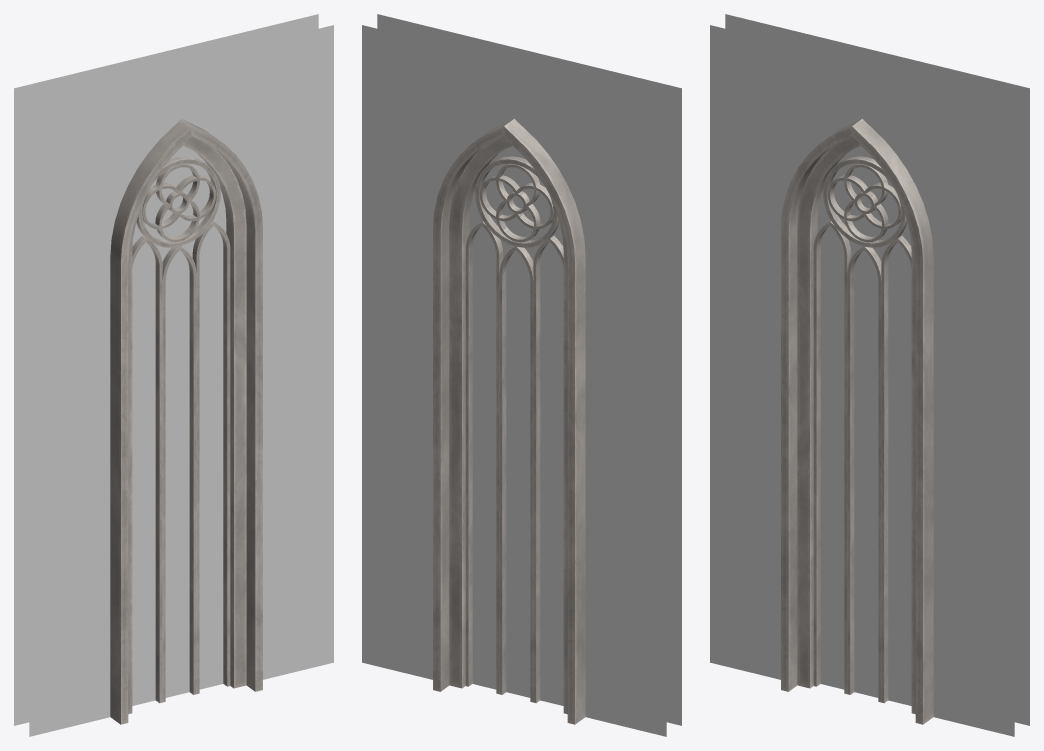
File: Wall_Window_C_C.fbx
3 views of the same model, side by side, from view 1: azimuth 30°, elevation 25°; view 2: azimuth 150°, elevation 25°; view 3: azimuth 330°, elevation 25° (orthographic).
Visible parts, largest first — view 1: Wall_Window_C_C; view 2: Wall_Window_C_C; view 3: Wall_Window_C_C.
Boxes of the visible parts, box(x1,y1,x2,y2) form: Wall_Window_C_C: box(14, 14, 333, 736); Wall_Window_C_C: box(362, 14, 681, 736); Wall_Window_C_C: box(710, 14, 1029, 736).
Size of the model in its own units: 3 by 0.6115 by 6.
